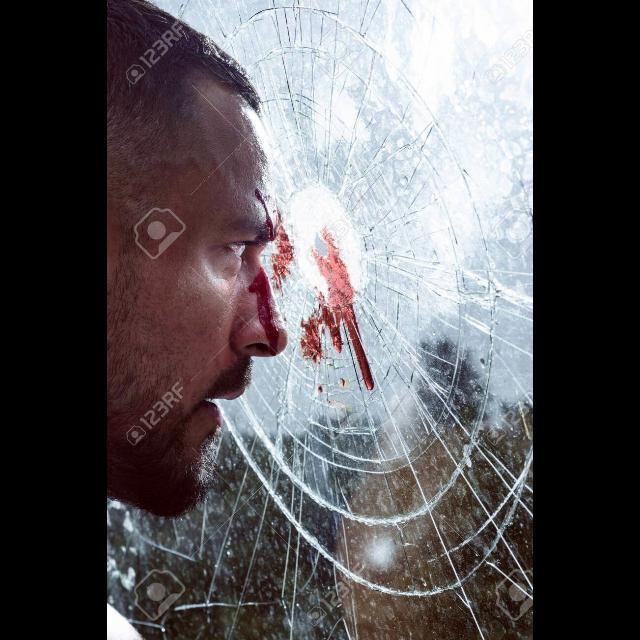blood: (300, 227, 375, 390), (249, 267, 280, 355), (271, 206, 294, 279)
